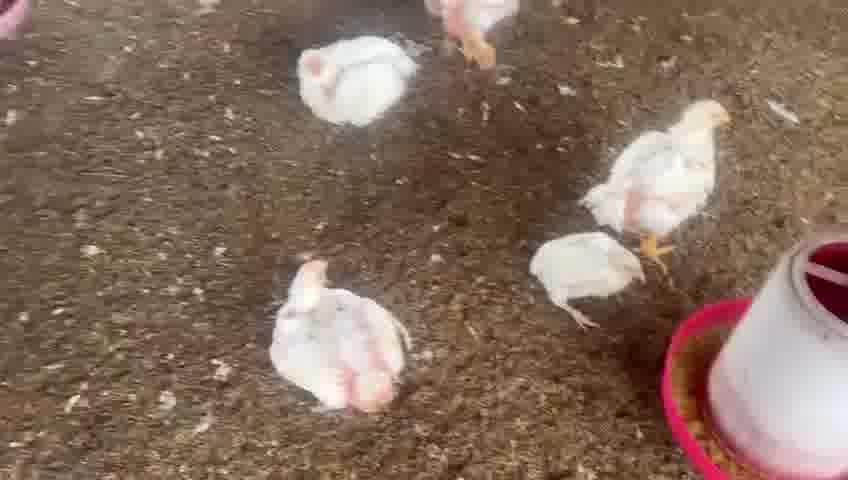AbNormal: (270, 257, 407, 415), (528, 233, 644, 330), (293, 38, 413, 126)
Normal: (595, 98, 731, 261), (419, 3, 518, 71)
